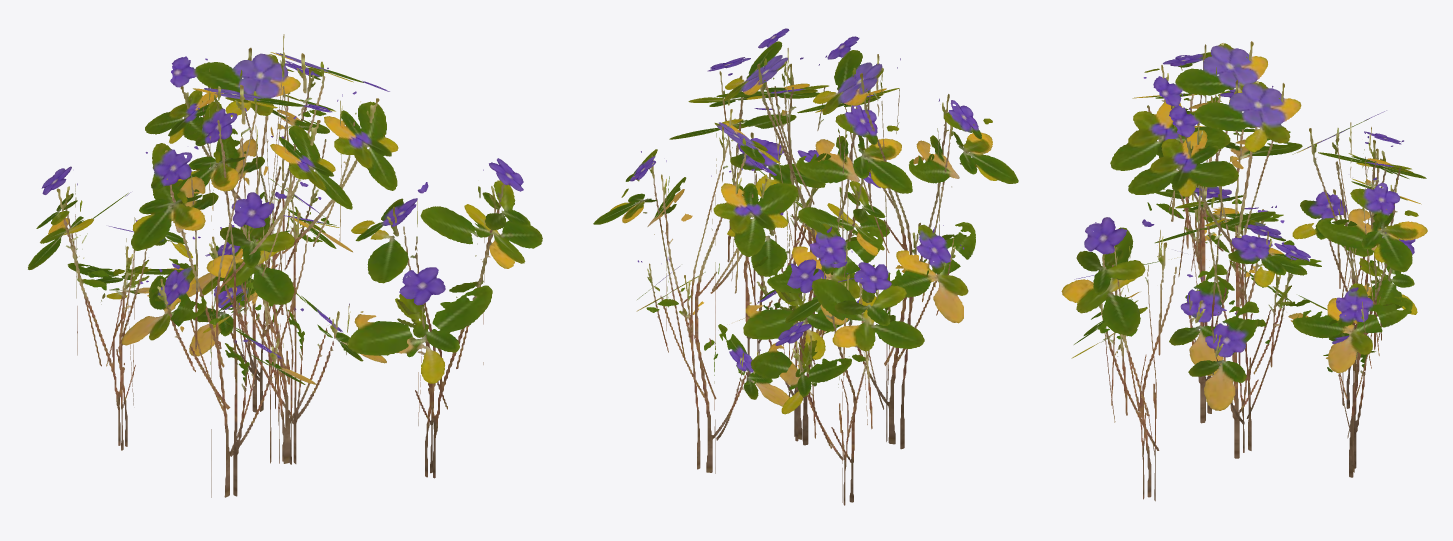
The model's file is periwinkle_plant.glb.
3 views of the same model, side by side, from view 1: azimuth 30°, elevation 25°; view 2: azimuth 150°, elevation 25°; view 3: azimuth 270°, elevation 25° (orthographic). The views are drawn at different scales.
Visible parts, largest first — view 1: periwinkle_patch_LOD0, periwinkle_tall_LOD0, periwinkle_small_LOD0; view 2: periwinkle_patch_LOD0, periwinkle_tall_LOD0, periwinkle_small_LOD0; view 3: periwinkle_patch_LOD0, periwinkle_tall_LOD0, periwinkle_small_LOD0.
Boxes of the visible parts, box(x1,y1,x2,y2) form: periwinkle_patch_LOD0: box(28, 47, 542, 497); periwinkle_tall_LOD0: box(176, 34, 398, 463); periwinkle_small_LOD0: box(203, 192, 339, 464); periwinkle_patch_LOD0: box(593, 36, 1018, 505); periwinkle_tall_LOD0: box(716, 28, 912, 445); periwinkle_small_LOD0: box(727, 165, 889, 441); periwinkle_patch_LOD0: box(1061, 41, 1427, 501); periwinkle_tall_LOD0: box(1128, 80, 1321, 458); periwinkle_small_LOD0: box(1155, 186, 1327, 452).
Size of what is drawn, in the model's own units: 0.3693 by 0.3539 by 0.3216.
1 material, 1 textured.
